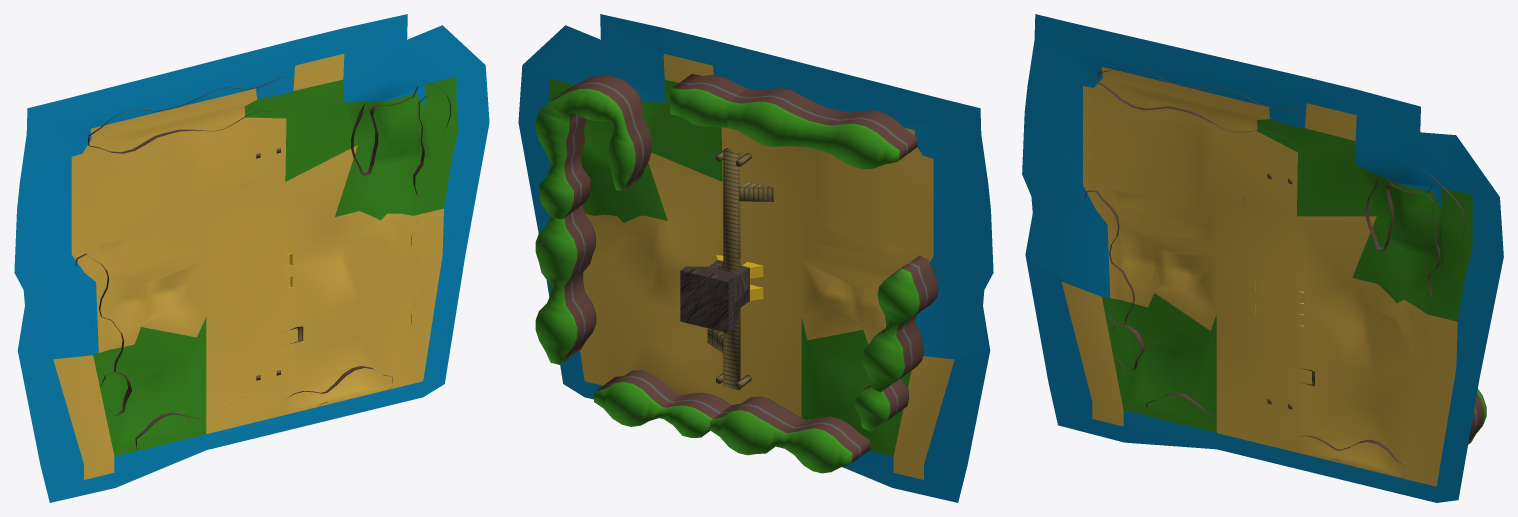
File: map_lvl1_v7.fbx
The picture shows the model from 3 angles, left to right: view 1: azimuth 30°, elevation 25°; view 2: azimuth 150°, elevation 25°; view 3: azimuth 330°, elevation 25°; orthographic projection.
Visible parts, largest first — view 1: Plane; view 2: Plane; view 3: Plane.
Boxes of the visible parts, <box> form: Plane: <box>14,14,489,502</box>; Plane: <box>518,14,993,502</box>; Plane: <box>1022,14,1503,502</box>.
Bounding box in the file's own units: 155 × 126 × 19.71.
